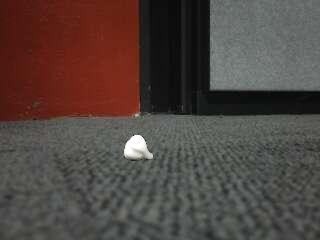Garlic: (124, 134, 154, 162)
